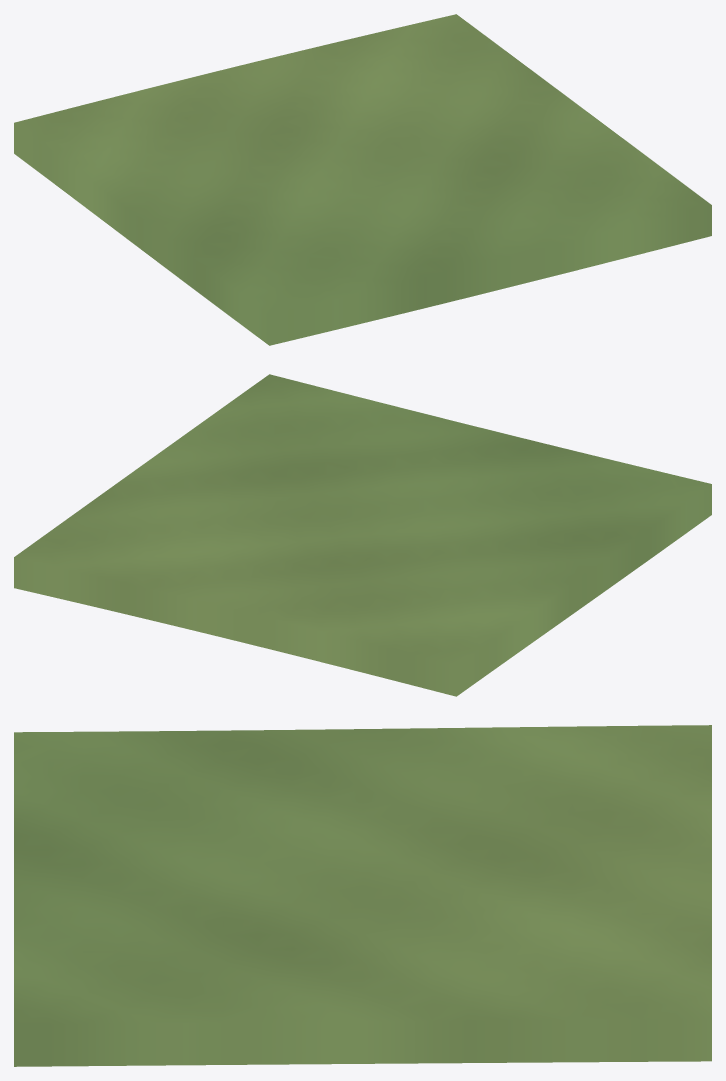
3 renders of one model, top to bottom at view 1: azimuth 30°, elevation 25°; view 2: azimuth 150°, elevation 25°; view 3: azimuth 270°, elevation 25°, orthographic. The views are drawn at different scales.
Visible parts, largest first — view 1: terrain; view 2: terrain; view 3: terrain.
Part boxes in pixels (<box>): terrain: <box>14,14,711,345</box>; terrain: <box>14,374,711,696</box>; terrain: <box>14,725,711,1066</box>.
Bounding box in the file's own units: 30 × 2.49 × 30.
